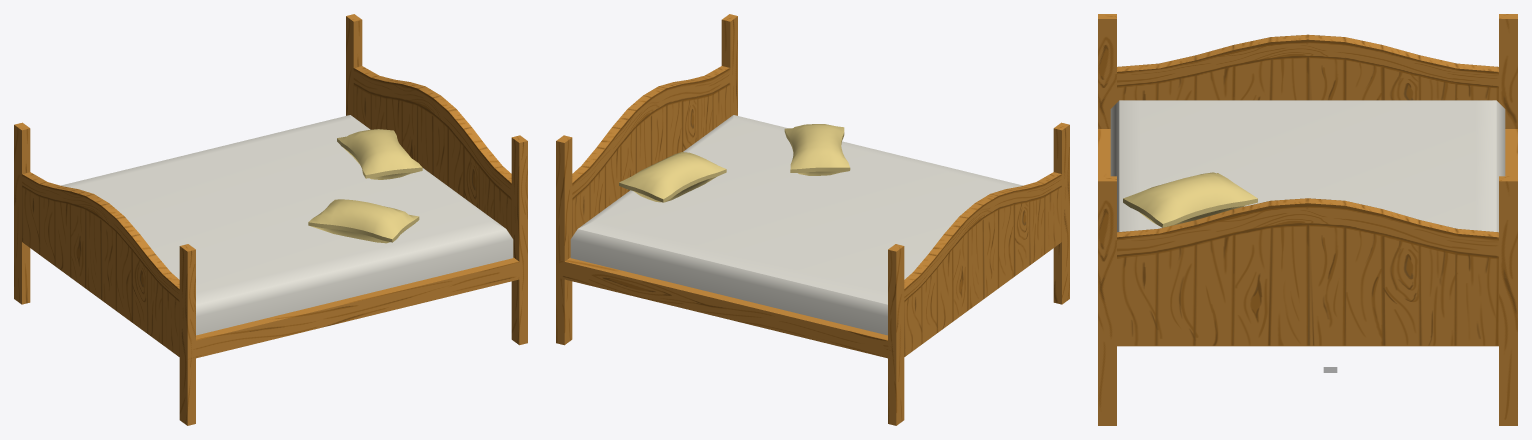
The model's file is DoubleBed_d.fbx.
The picture shows the model from 3 angles, left to right: view 1: azimuth 30°, elevation 25°; view 2: azimuth 150°, elevation 25°; view 3: azimuth 270°, elevation 25°; orthographic projection. The views are drawn at different scales.
Visible parts, largest first — view 1: singleBed_bottom_frame; view 2: singleBed_bottom_frame; view 3: singleBed_bottom_frame.
Boxes of the visible parts, bbox=[...] form: singleBed_bottom_frame: bbox=[14, 14, 527, 425]; singleBed_bottom_frame: bbox=[556, 14, 1069, 425]; singleBed_bottom_frame: bbox=[1098, 14, 1517, 425].
Size of the model in its own units: 34.85 by 19.83 by 30.77.
